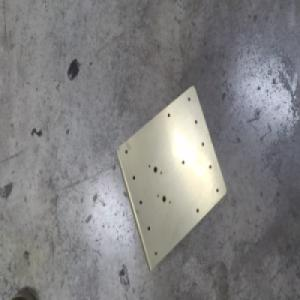MetalSheet: (114, 83, 228, 273)
